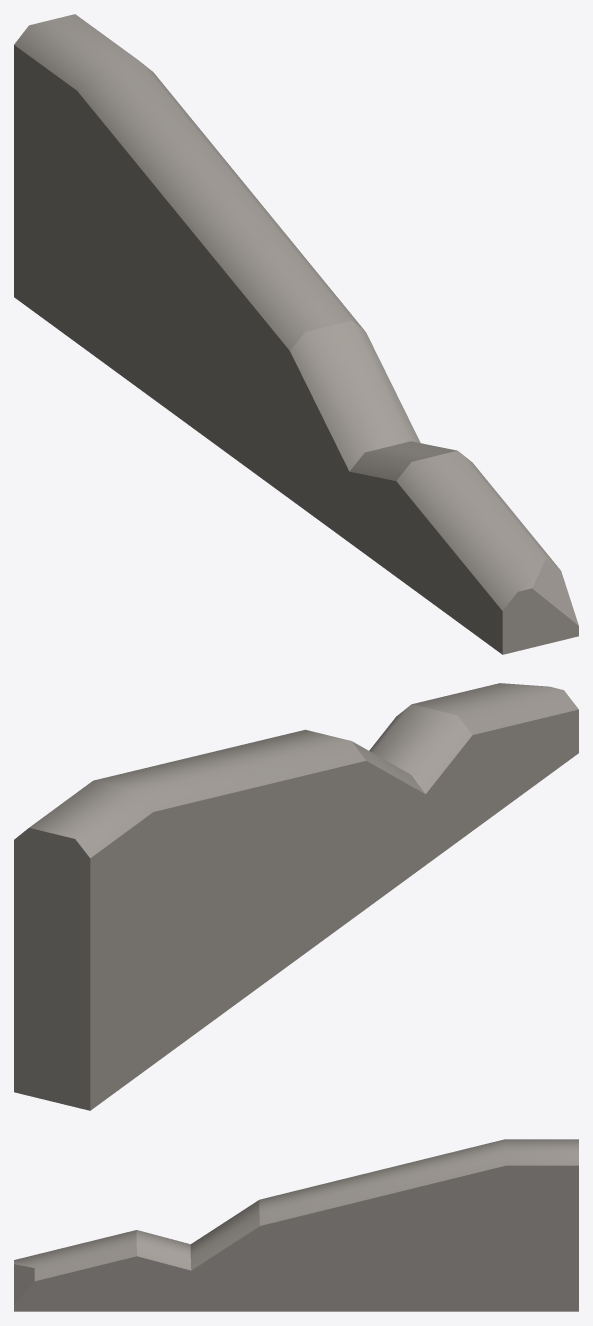
Rendered from Stairs Side 02.FBX.
The picture shows the model from 3 angles, top to bottom: view 1: azimuth 30°, elevation 25°; view 2: azimuth 150°, elevation 25°; view 3: azimuth 270°, elevation 25°; orthographic projection. The views are drawn at different scales.
Visible parts, largest first — view 1: Stairs Side 02; view 2: Stairs Side 02; view 3: Stairs Side 02.
Boxes of the visible parts, <box> form: Stairs Side 02: <box>14,14,578,654</box>; Stairs Side 02: <box>14,683,578,1110</box>; Stairs Side 02: <box>14,1139,578,1311</box>.
Bounding box in the file's own units: 33.93 × 114 × 376.
1 material, 1 textured.
